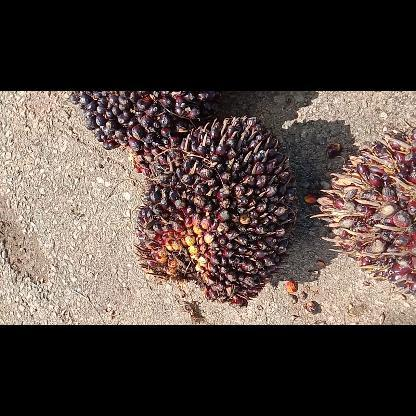TBS mentah: (134, 114, 297, 308), (310, 118, 414, 292), (68, 90, 210, 176)
